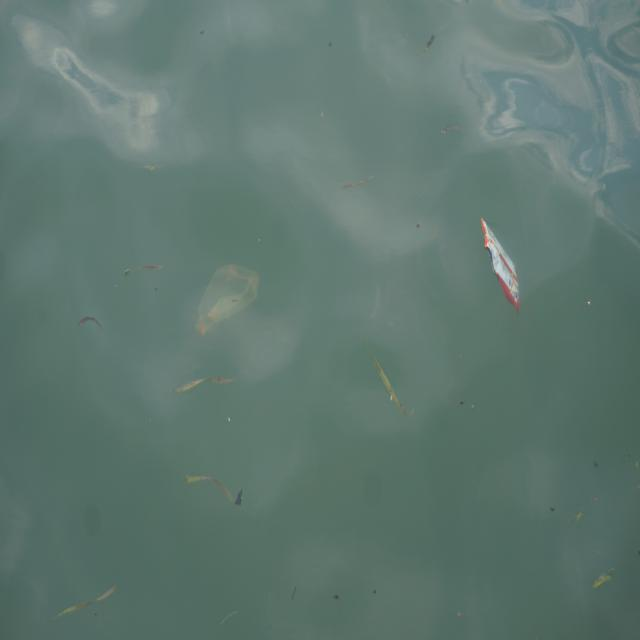Bungkus Makanan: (477, 209, 527, 321)
Kantong Plastik: (194, 255, 262, 349)
